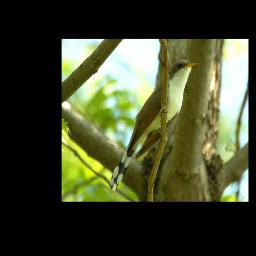Cuckoo: (110, 59, 198, 190)
